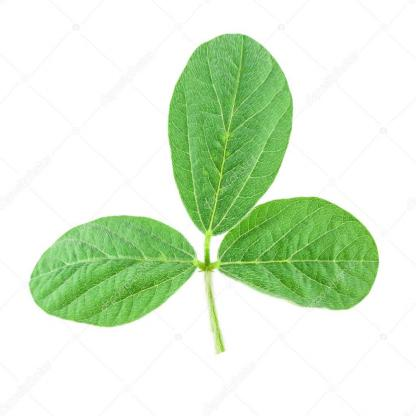soybean leaf: (166, 32, 295, 236), (26, 213, 198, 330), (217, 197, 380, 312)
